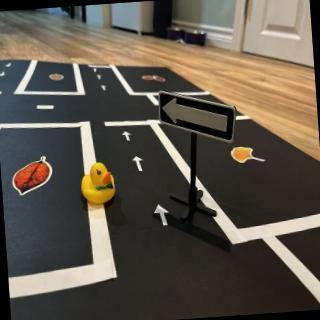duck_regular: (80, 162, 117, 207)
road_oneway: (152, 200, 171, 230), (131, 154, 147, 175), (122, 130, 135, 146), (100, 80, 109, 96), (92, 66, 100, 74), (96, 75, 102, 82)
sign_oneway_left: (158, 90, 239, 149)
